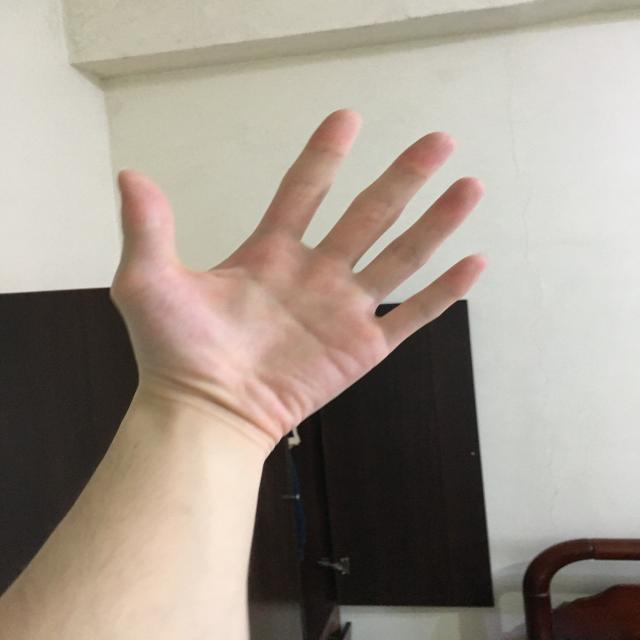no_glove: (78, 91, 514, 453)
